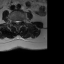CCS_normal: (16, 18, 18, 27)
LFS_stenosis: (20, 18, 22, 24)
LLS_stenosis: (18, 18, 20, 25)
RFS_stenosis: (12, 18, 14, 25)
RLS_stenosis: (14, 19, 16, 25)
